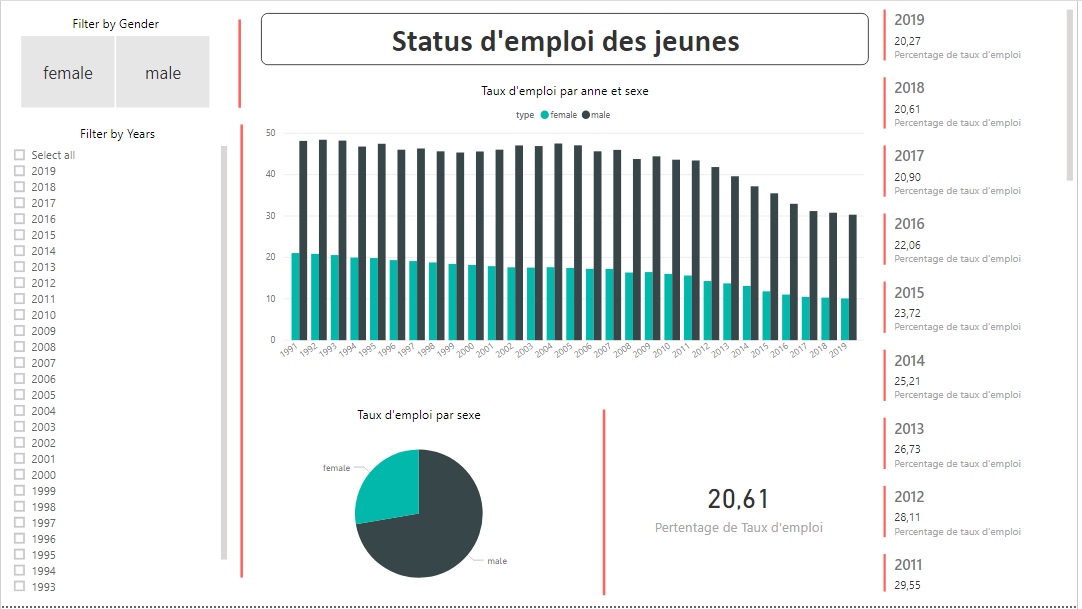

The page's visual inventory and layout, read from the dashboard file:
{"tool":"powerbi","page":{"name":"Status d'emploi des jeunes","canvas":[1280,720],"ordinal":6},"visuals":[{"type":"slicer","title":"Filter by Gender","fields":{"Values":["mydb gender.type"]},"box":[0,16.7,272.4,115.4],"z":0},{"type":"basicShape","box":[272.4,11.9,22.6,124.9],"z":1000},{"type":"textbox","box":[309.3,14.3,723.3,61.9],"z":2000},{"type":"slicer","title":"Filter by Years","fields":{"Values":["mydb temps.year"]},"box":[2.4,147.5,272.4,560.3],"z":3000},{"type":"basicShape","box":[274.8,136.8,22.6,559.1],"z":4000},{"type":"pieChart","title":"Taux d''emploi par sexe","fields":{"Category":["mydb gender.type"],"Y":["Avg(mydb youth.employment_ratio)"]},"box":[339,481.8,316.4,235.5],"z":5000},{"type":"card","fields":{"Values":["Avg(mydb youth.labor_force_participation_rate)"]},"box":[754.2,503.2,247.4,192.7],"z":6000},{"type":"basicShape","box":[711.4,475.8,11.9,241.5],"z":7000},{"type":"multiRowCard","fields":{"Values":["mydb temps.year","Avg(mydb youth.employment_ratio)"]},"box":[1044.5,4.8,235.5,703],"z":8000},{"type":"clusteredColumnChart","title":"Taux d''emploi par anne et sexe","fields":{"Category":["mydb temps.year"],"Y":["Avg(mydb youth.employment_ratio)"],"Series":["mydb gender.type"]},"box":[309.3,96.4,723.3,341.4],"z":9000}]}

Visuals, with their boxes in screenshot pixels (x1, y1, x2, y2), scaled from the page's 1280x720 canvas onto the 1082x609 screenshot:
"Filter by Gender" slicer: [left=0, top=14, right=230, bottom=112]
basicShape: [left=230, top=10, right=249, bottom=116]
textbox: [left=261, top=12, right=873, bottom=64]
"Filter by Years" slicer: [left=2, top=125, right=232, bottom=599]
basicShape: [left=232, top=116, right=251, bottom=589]
"Taux d''emploi par sexe" pieChart: [left=287, top=408, right=554, bottom=607]
card - Avg(mydb youth.labor_force_participation_rate): [left=638, top=426, right=847, bottom=589]
basicShape: [left=601, top=402, right=611, bottom=607]
multiRowCard - mydb temps.year x Avg(mydb youth.employment_ratio): [left=883, top=4, right=1081, bottom=599]
"Taux d''emploi par anne et sexe" clusteredColumnChart: [left=261, top=82, right=873, bottom=370]
